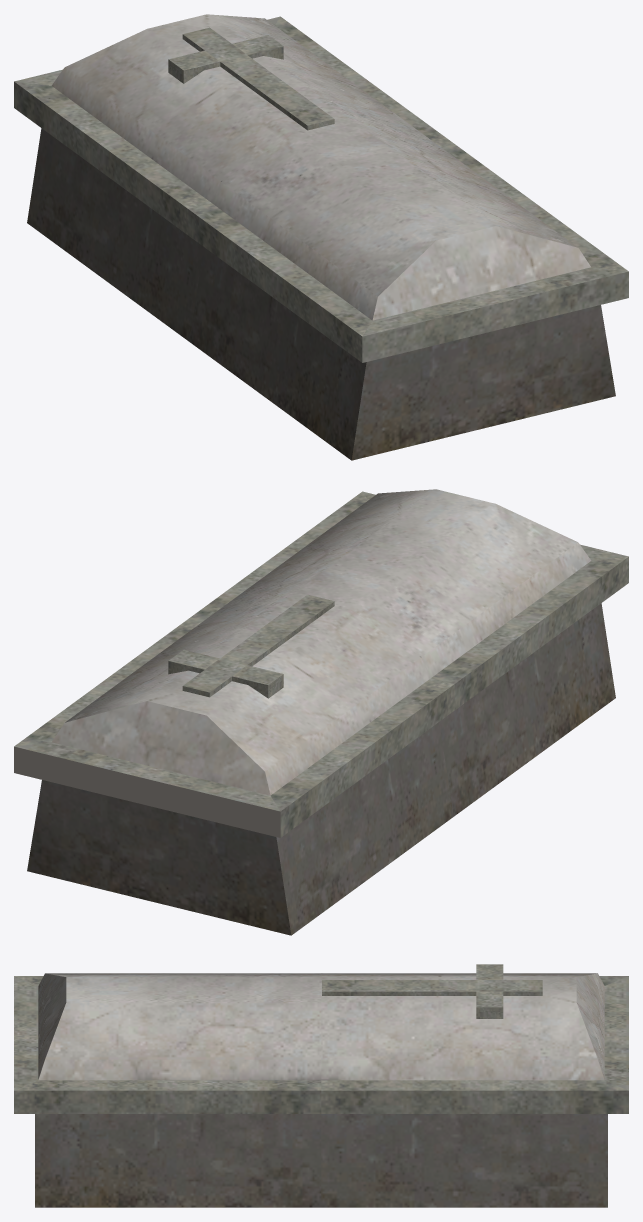
Rendered from stone_sarcophagus.gltf.
The picture shows the model from 3 angles, top to bottom: view 1: azimuth 30°, elevation 25°; view 2: azimuth 150°, elevation 25°; view 3: azimuth 270°, elevation 25°; orthographic projection. The views are drawn at different scales.
Visible parts, largest first — view 1: stone_sarcophagus; view 2: stone_sarcophagus; view 3: stone_sarcophagus.
Boxes of the visible parts, bbox=[...] form: stone_sarcophagus: bbox=[14, 14, 628, 460]; stone_sarcophagus: bbox=[14, 489, 628, 935]; stone_sarcophagus: bbox=[14, 964, 628, 1207].
Bounding box in the file's own units: 0.9005 × 0.6037 × 2.04.
1 material, 1 textured.
